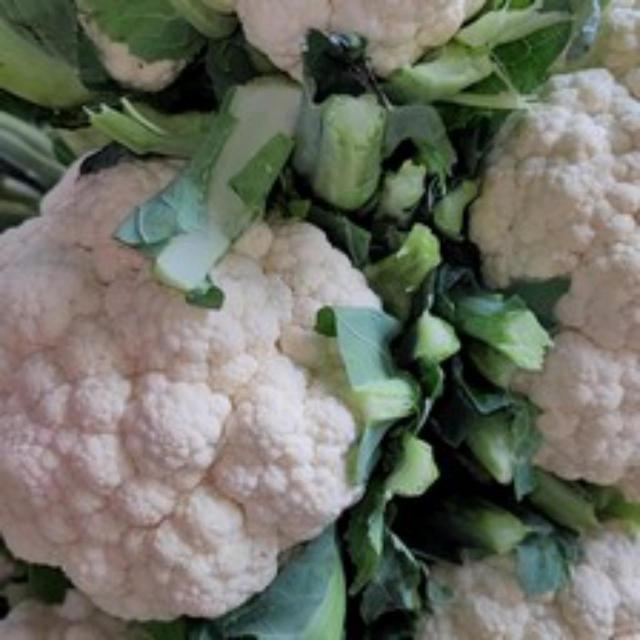cauliflower: (0, 134, 403, 626)
